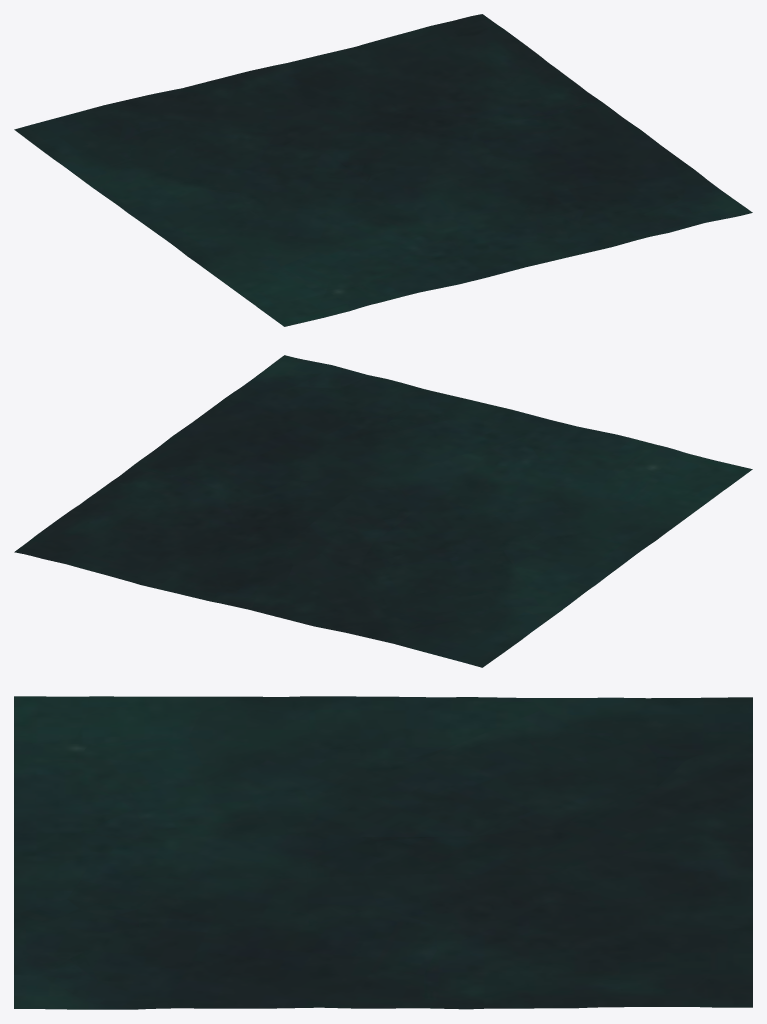
The picture shows the model from 3 angles, top to bottom: view 1: azimuth 30°, elevation 25°; view 2: azimuth 150°, elevation 25°; view 3: azimuth 270°, elevation 25°; orthographic projection. The views are drawn at different scales.
Size of the model in its own units: 52.22 by 0.5486 by 52.22.
Materials: 2 (2 with a texture image).
